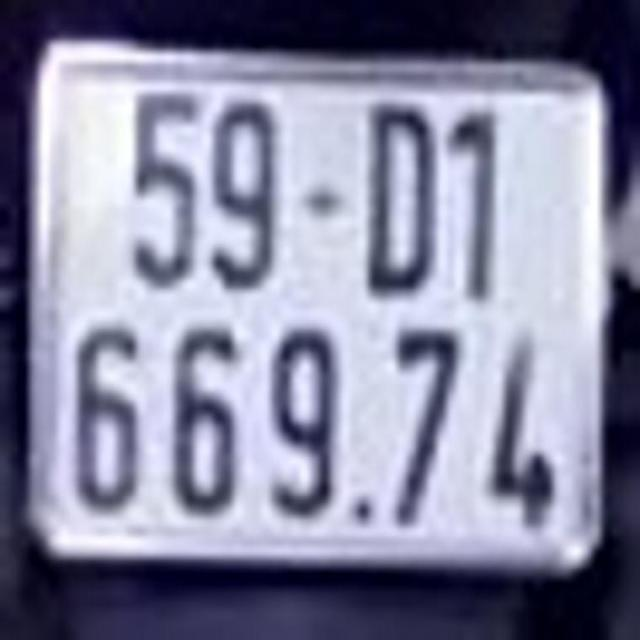1: (441, 81, 515, 313)
4: (486, 302, 573, 540)
5: (116, 74, 207, 297)
6: (162, 305, 245, 522), (65, 298, 145, 517)
7: (385, 308, 465, 535)
9: (260, 298, 344, 530), (202, 81, 283, 305)
D: (354, 86, 442, 316)
